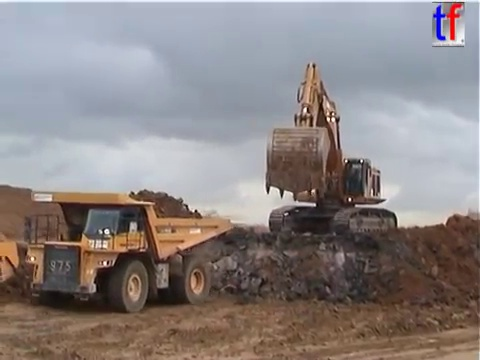excavator: (262, 60, 401, 244)
truck: (21, 188, 235, 314), (1, 235, 34, 289), (464, 206, 480, 225)
